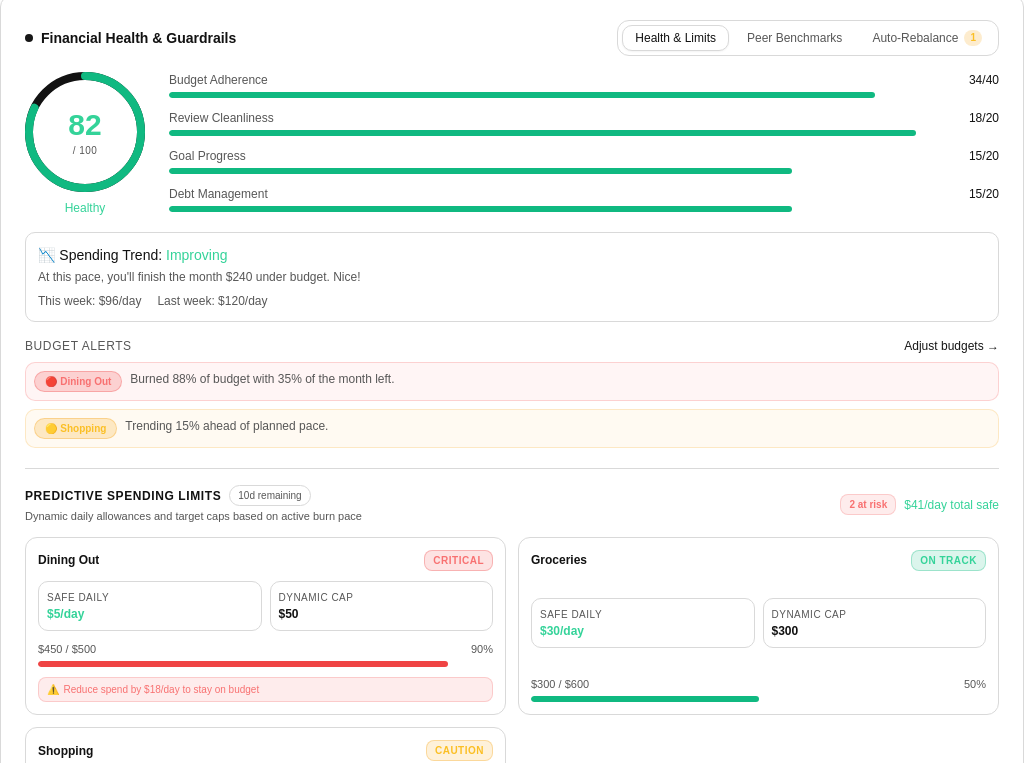
BudgetHealthCard Component › shows an unavailable peer comparison state without inventing cohort statistics
Click the button with test id "btn-tab-peer-benchmarks" at x=795, y=38, box [735, 26, 854, 50]
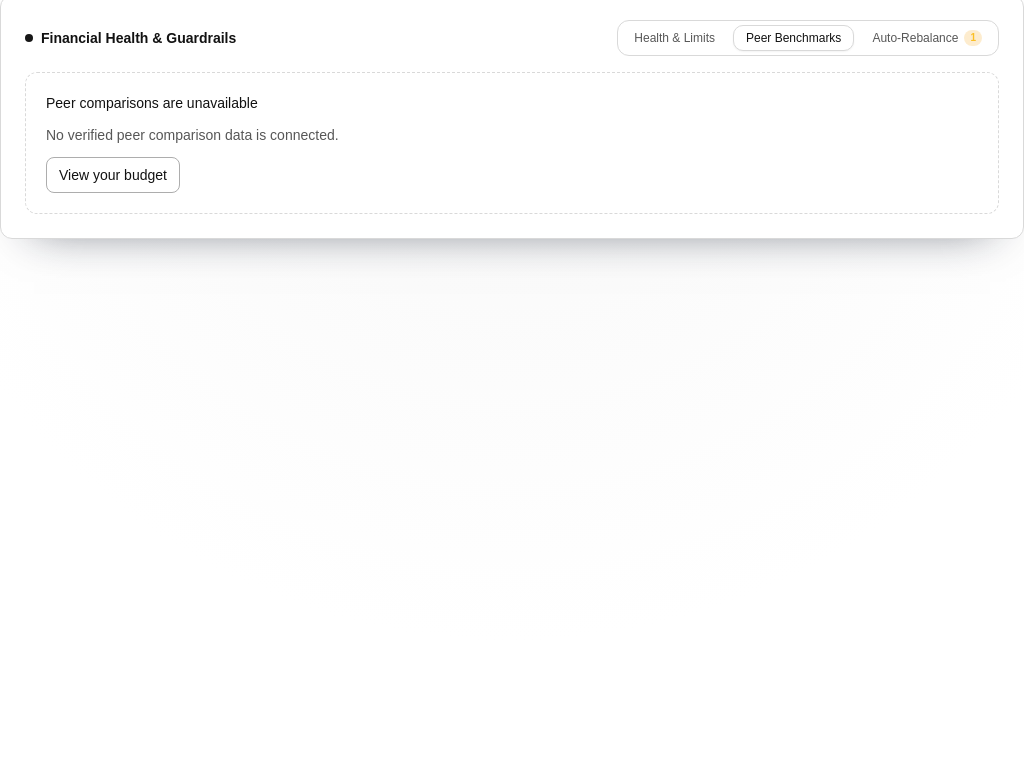
Now the message with test id "peer-benchmarks-unavailable" shows "No verified peer comparison data is connected.", box [46, 127, 339, 143]
Click the button "View your budget" at x=113, y=175, box [46, 157, 180, 193]
(page scrolled)
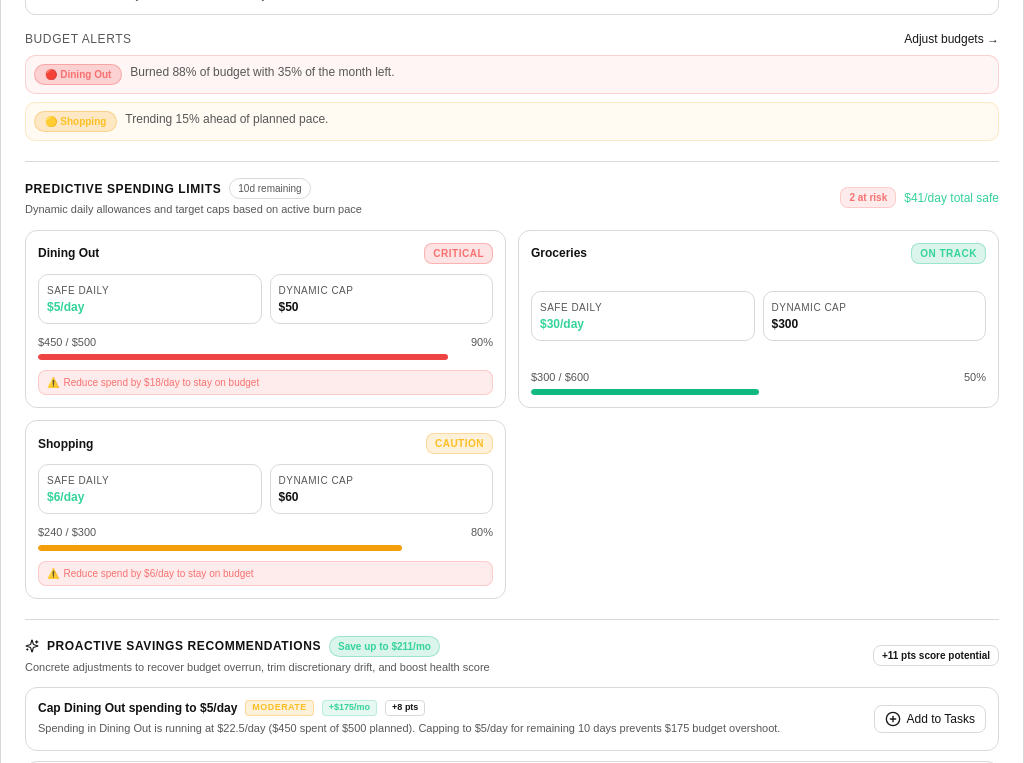
Now the element with test id "predictive-spending-limits" is shown, box [25, 161, 999, 598]
